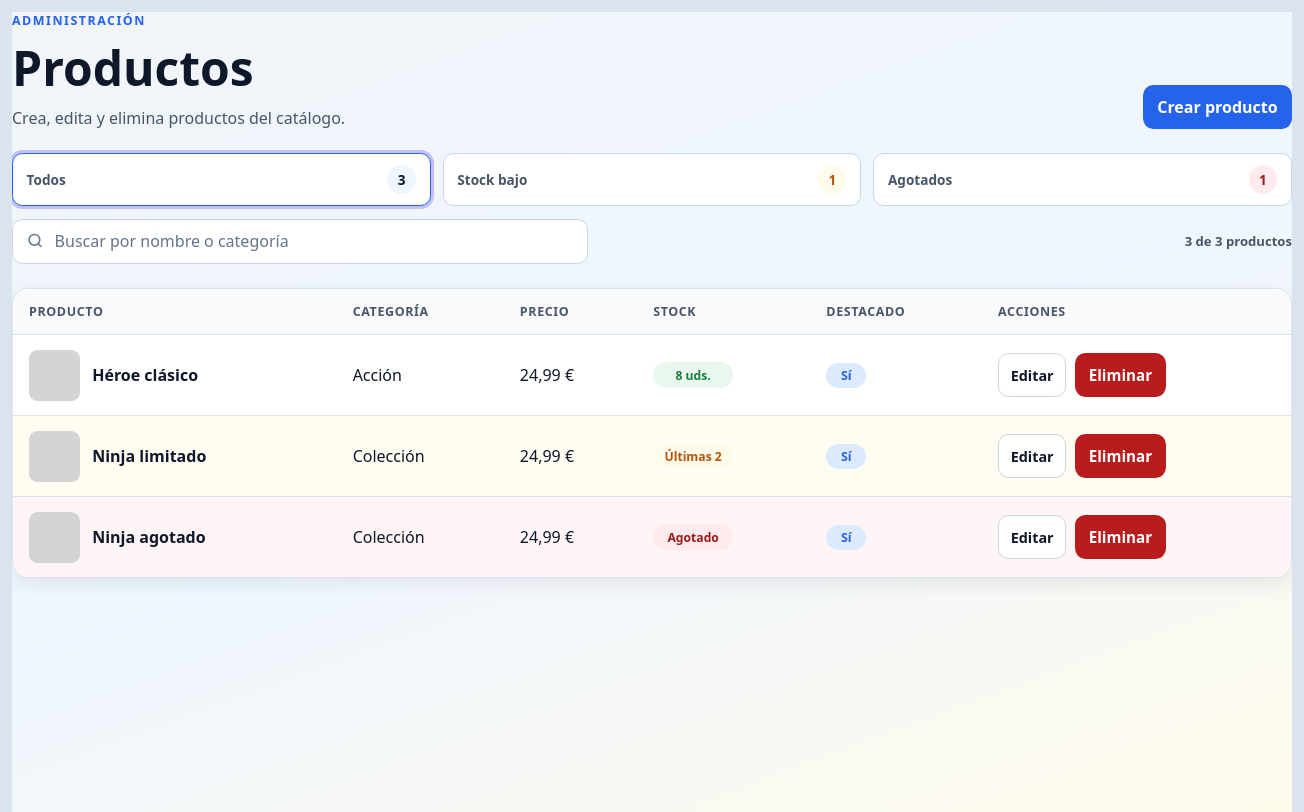
AdminProductsPage › busca por nombre o categoría y permite combinar la búsqueda con el stock
The image size is (1304, 812).
In the search field named "Buscar productos por nombre o categoría": (300, 241) [12,219,588,264], type "coleccion"
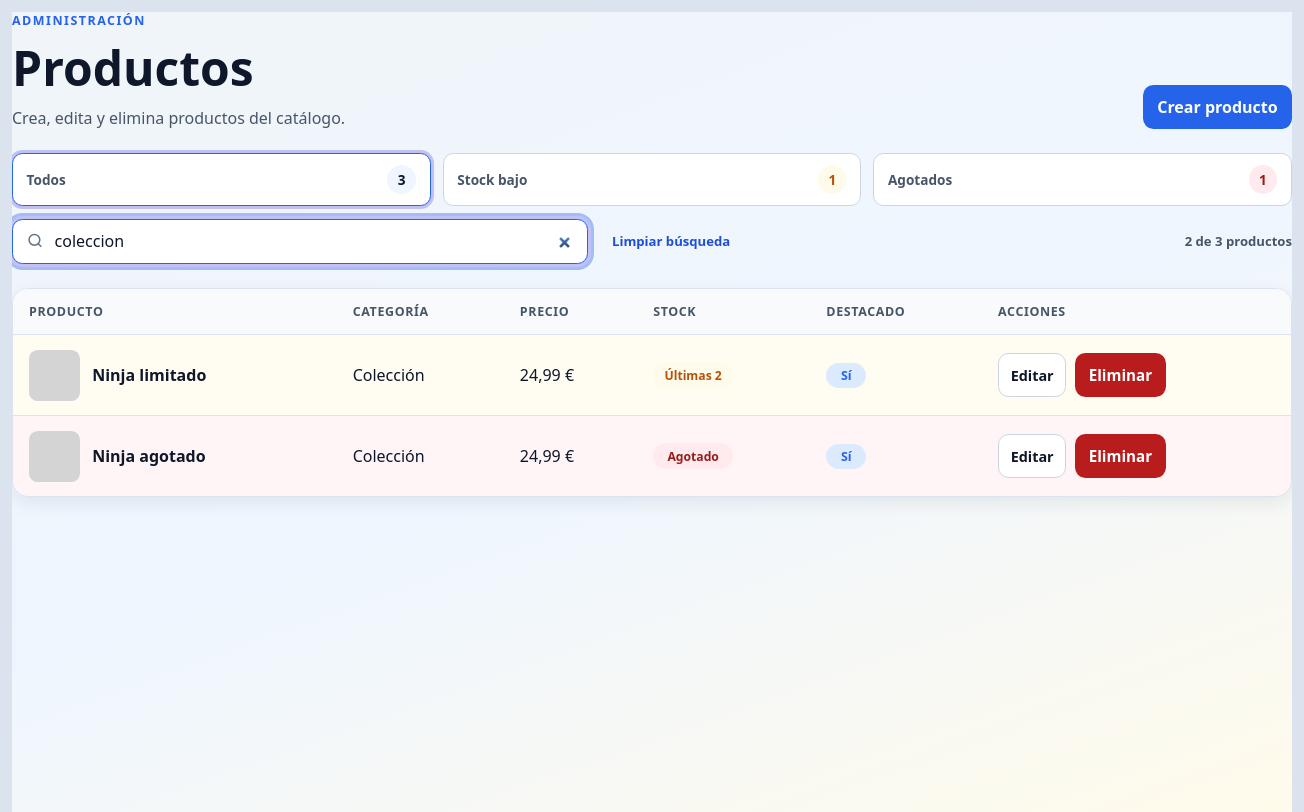
Check: the text "Ninja limitado" is shown, box [92,364,206,386]
Check: the text "2 de 3 productos" is shown, box [1185,232,1292,250]
Check: the text "Héroe clásico" is gone
Click the button with aria-label "Productos agotados: 1": (920, 179) [873,153,1292,206]
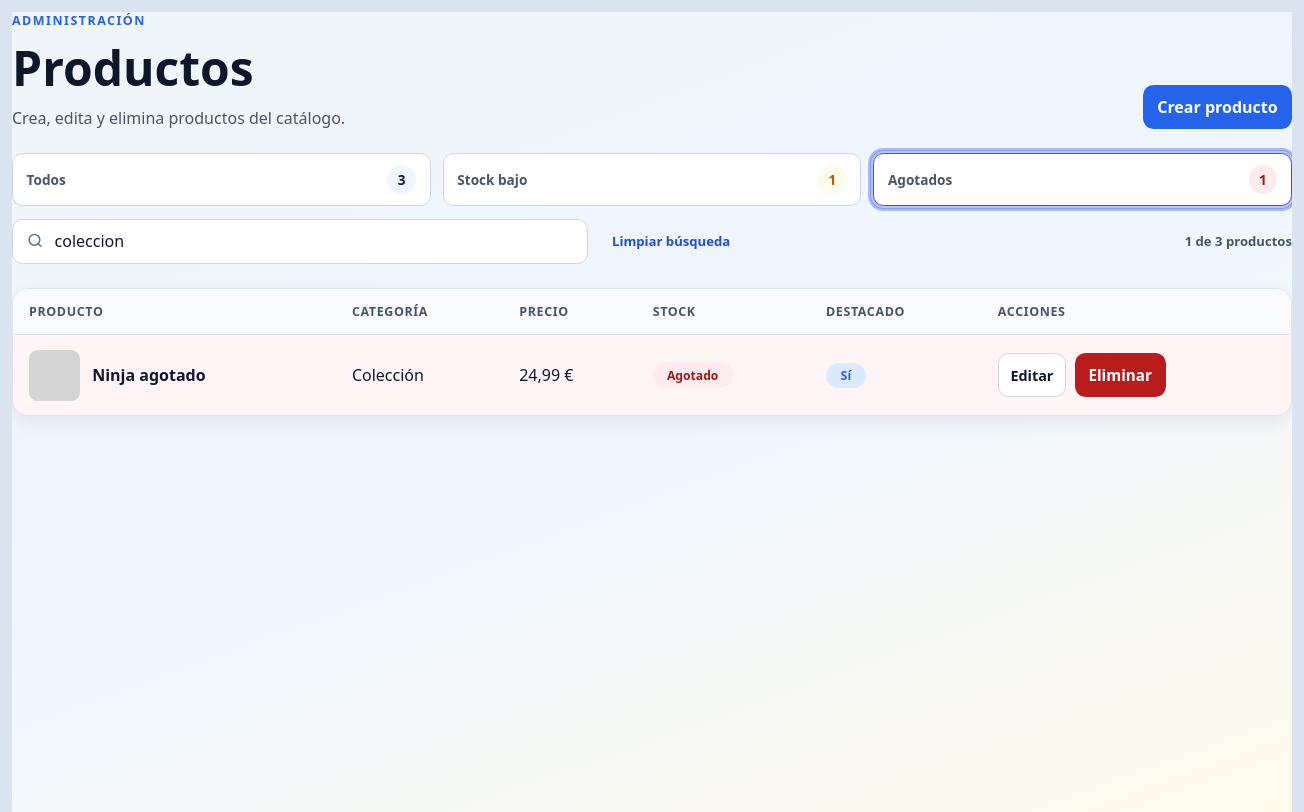
Check: the text "Ninja agotado" is shown, box [92,364,206,386]
Check: the text "1 de 3 productos" is shown, box [1185,232,1292,250]
Check: the text "Ninja limitado" is gone
Click the button "Limpiar búsqueda": (671, 241) [600,219,742,263]
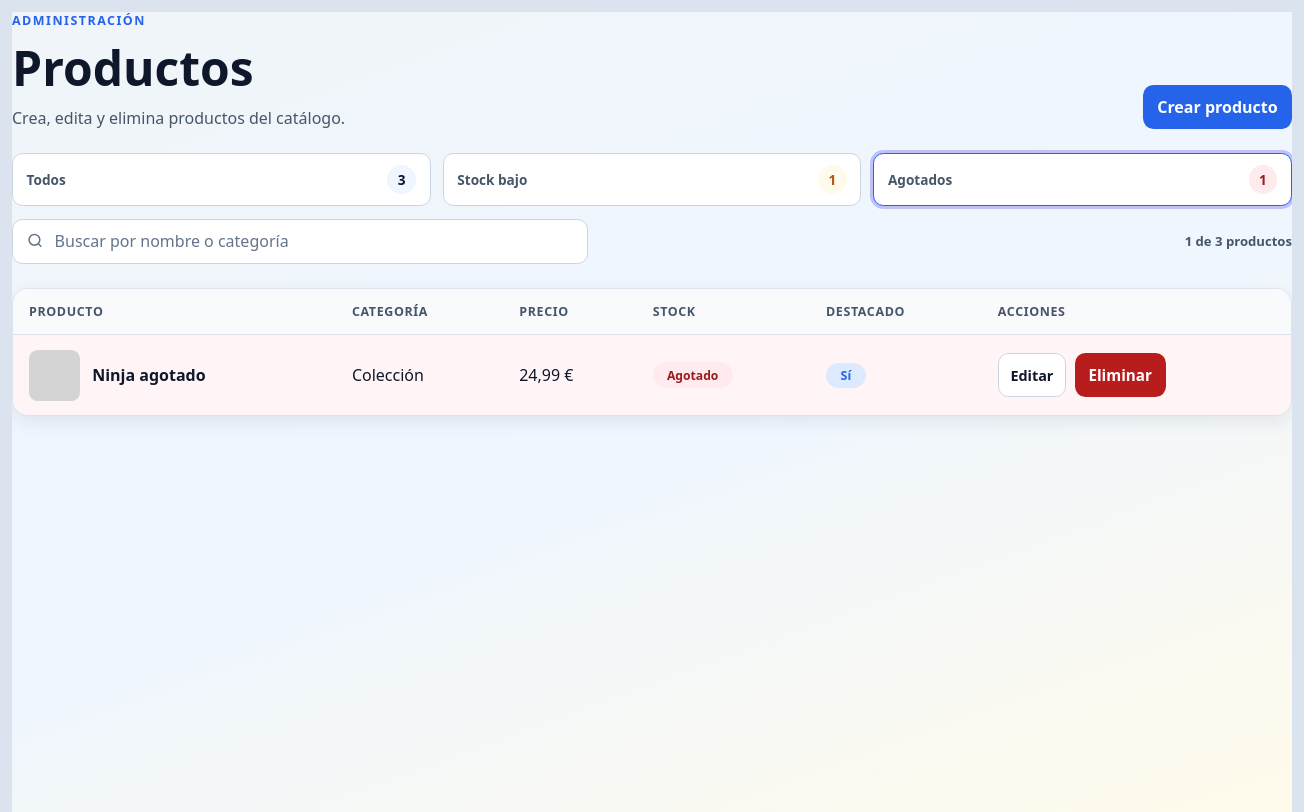
Check: the text "Ninja agotado" is shown, box [92,364,206,386]
Check: the search field named "Buscar productos por nombre o categoría" is empty, box [12,219,588,264]
